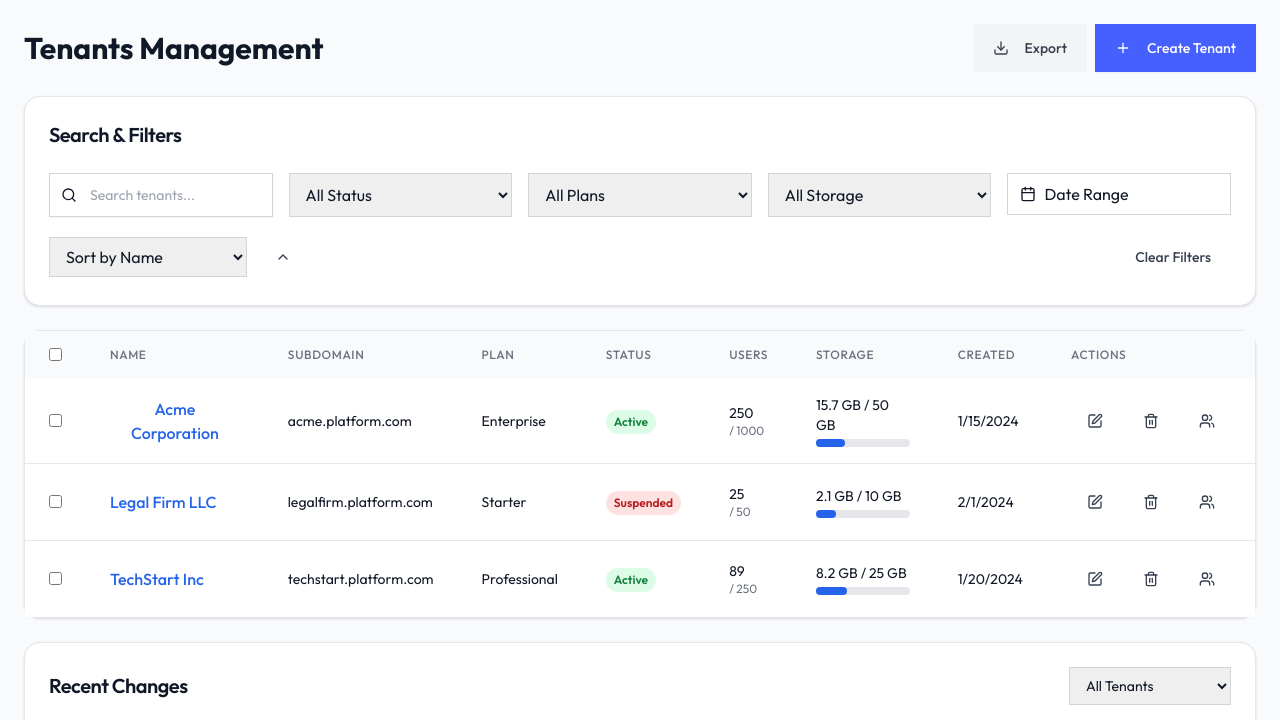
TenantsManagementPage › Edit Tenant Functionality › should open edit modal when edit button clicked
This screenshot has width=1280, height=720.
Click the button with test id "edit-tenant-1": coordinates (1095, 421) [1071, 399, 1119, 443]
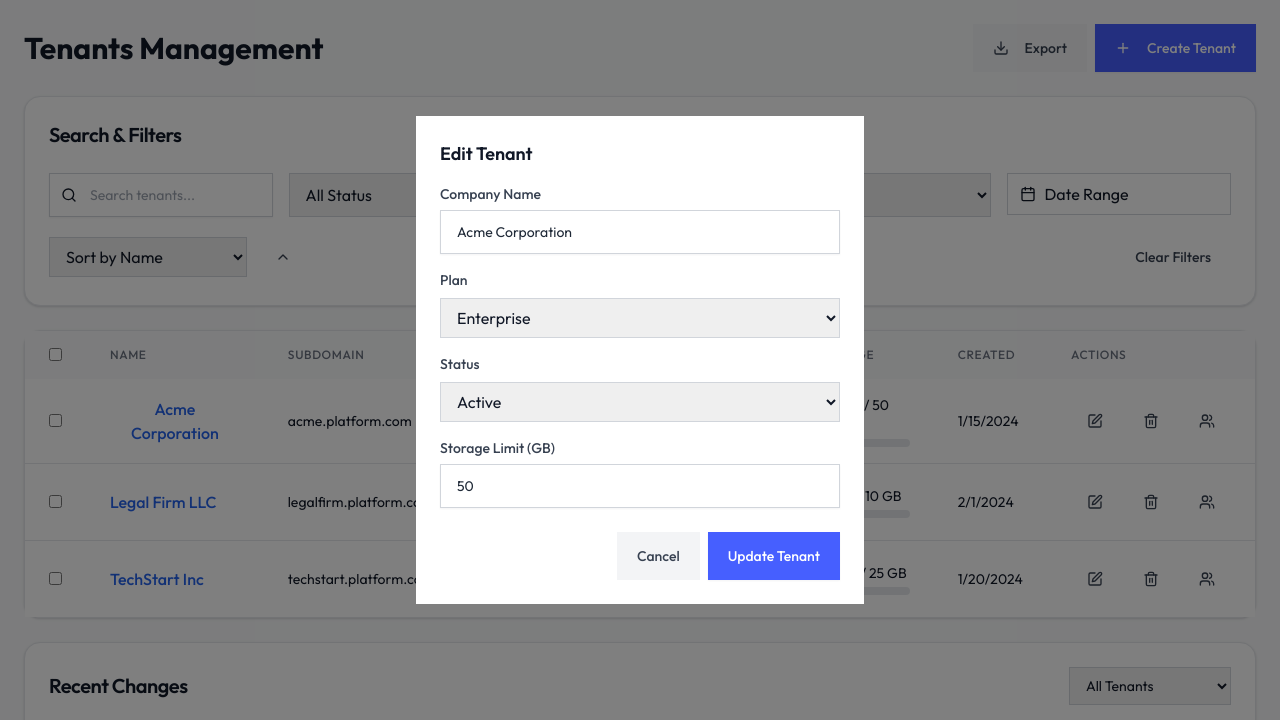
Now the element with test id "edit-tenant-modal" is shown
Now the heading "Edit Tenant" is shown, box [440, 142, 533, 165]
